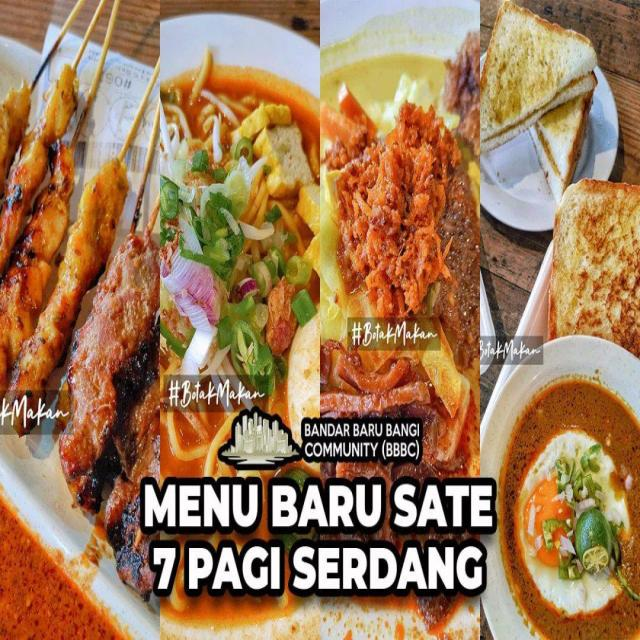Sate: (0, 24, 155, 625)
